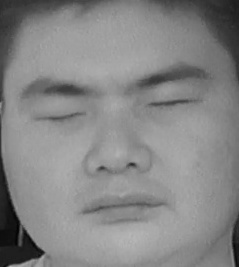blink: (28, 99, 91, 138), (148, 87, 198, 117)
mouth: (79, 182, 170, 232)
